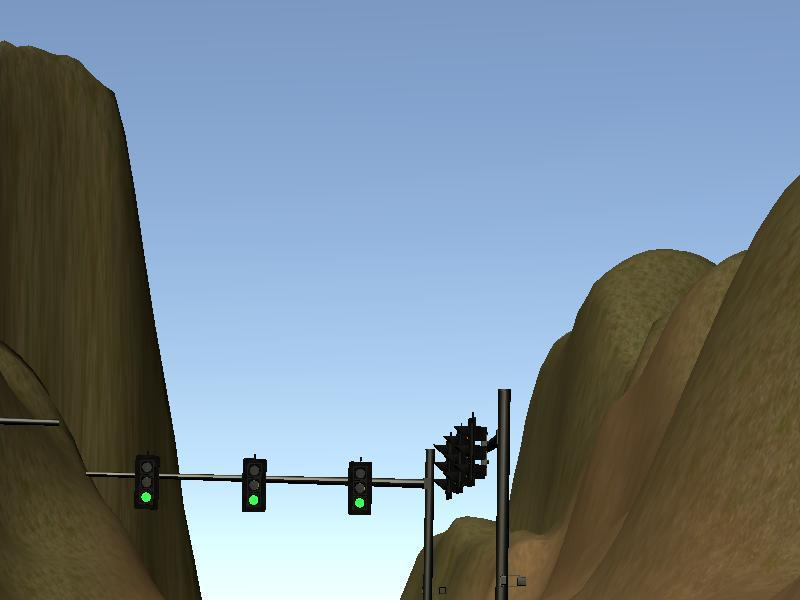Green: (134, 455, 159, 510), (347, 461, 372, 516), (241, 457, 266, 512)
